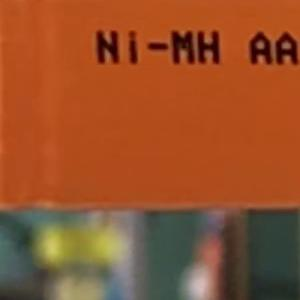keyword: (86, 22, 230, 73)
